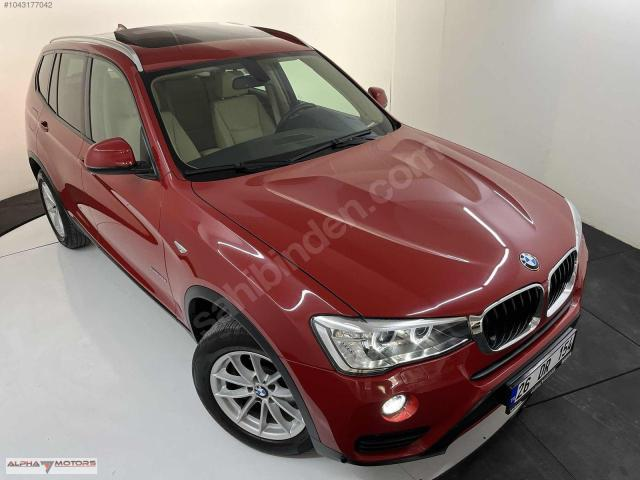plaka: (506, 328, 576, 416)
